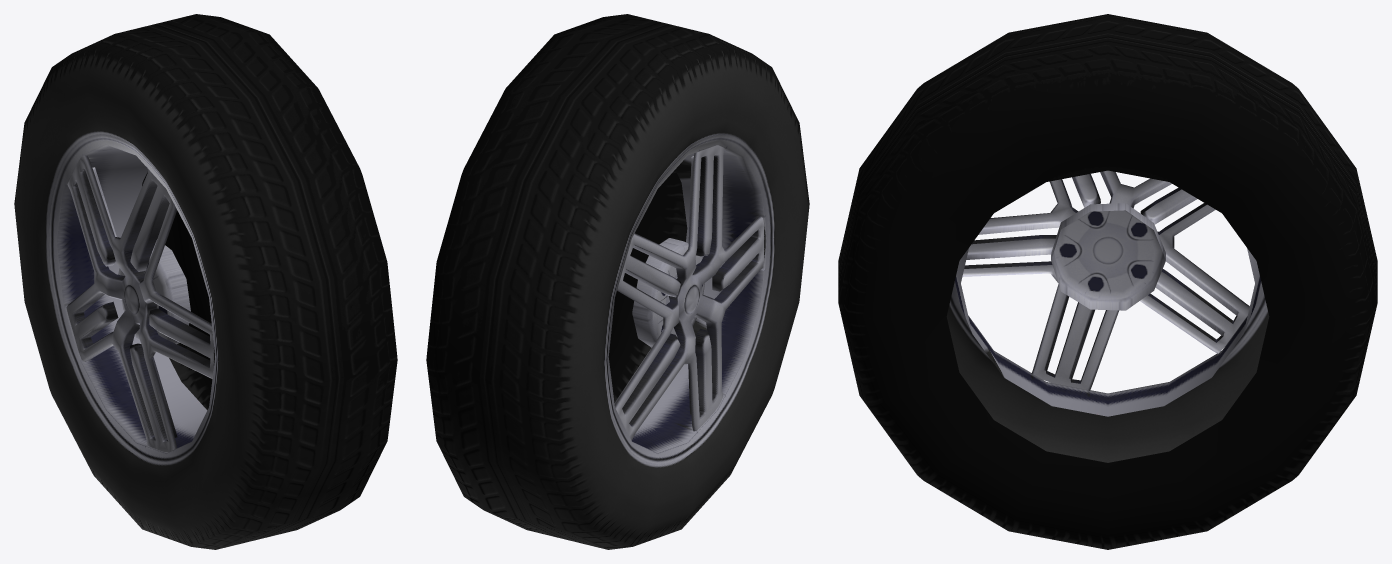
File: front_wheel_right.obj
3 views of the same model, side by side, from view 1: azimuth 30°, elevation 25°; view 2: azimuth 150°, elevation 25°; view 3: azimuth 270°, elevation 25° (orthographic).
Parts seen in each view (by area): view 1: wheels_n_acc; view 2: wheels_n_acc; view 3: wheels_n_acc.
Boxes of the visible parts, x1=… form: wheels_n_acc: x1=14, y1=14, x2=397, y2=549; wheels_n_acc: x1=426, y1=14, x2=809, y2=549; wheels_n_acc: x1=838, y1=14, x2=1377, y2=549.
Size of the model in its own units: 3.51 by 10.12 by 10.12.
